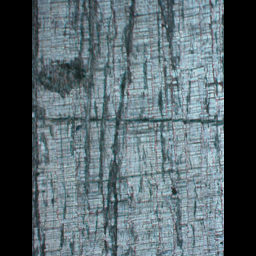d: (32, 55, 89, 102)
